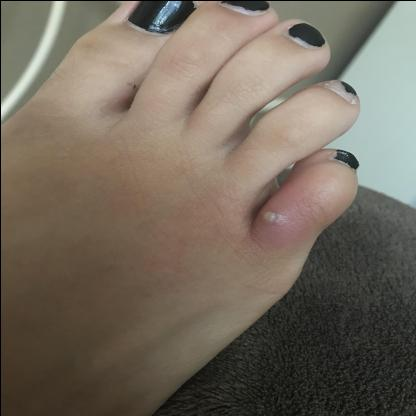Fire ant: (256, 204, 292, 235)
